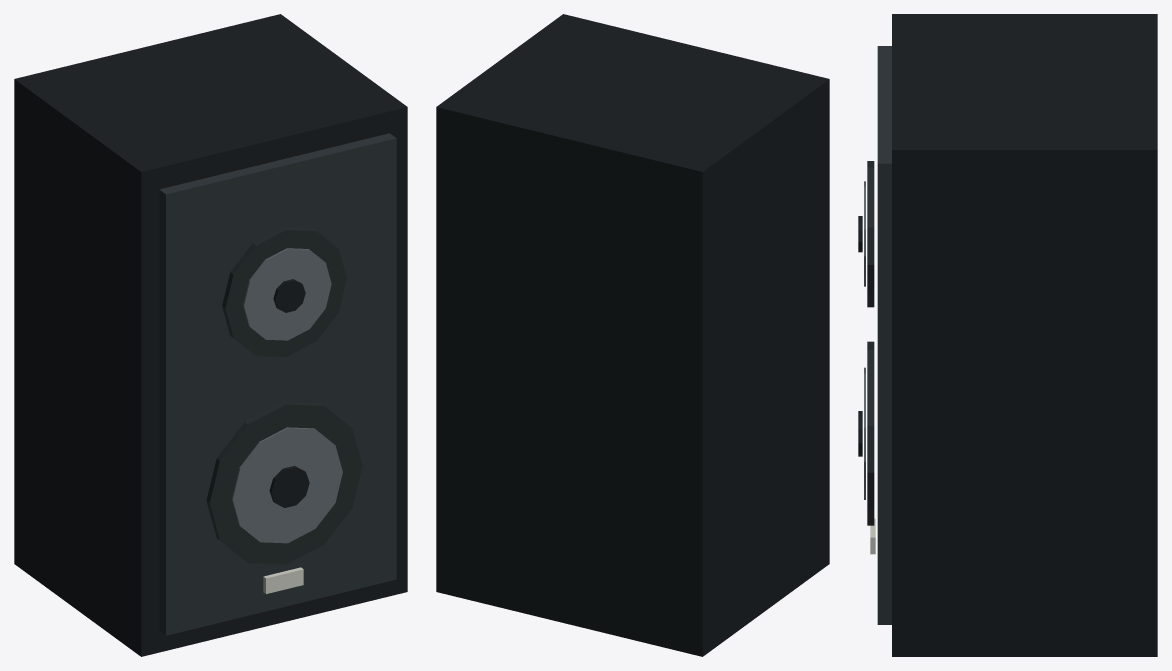
Rendered from lwf_modular_riser_speaker_v1.glb.
3 renders of one model, left to right at view 1: azimuth 30°, elevation 25°; view 2: azimuth 150°, elevation 25°; view 3: azimuth 270°, elevation 25°, orthographic. The views are drawn at different scales.
Visible parts, largest first — view 1: RiserSpeaker; view 2: RiserSpeaker; view 3: RiserSpeaker.
Part boxes in pixels (x1,y1,x2,y2): RiserSpeaker: (14,14,407,656); RiserSpeaker: (436,14,829,656); RiserSpeaker: (858,14,1157,656).
Size of the model in its own units: 0.46 by 0.8 by 0.428.
1 material, 1 textured.
